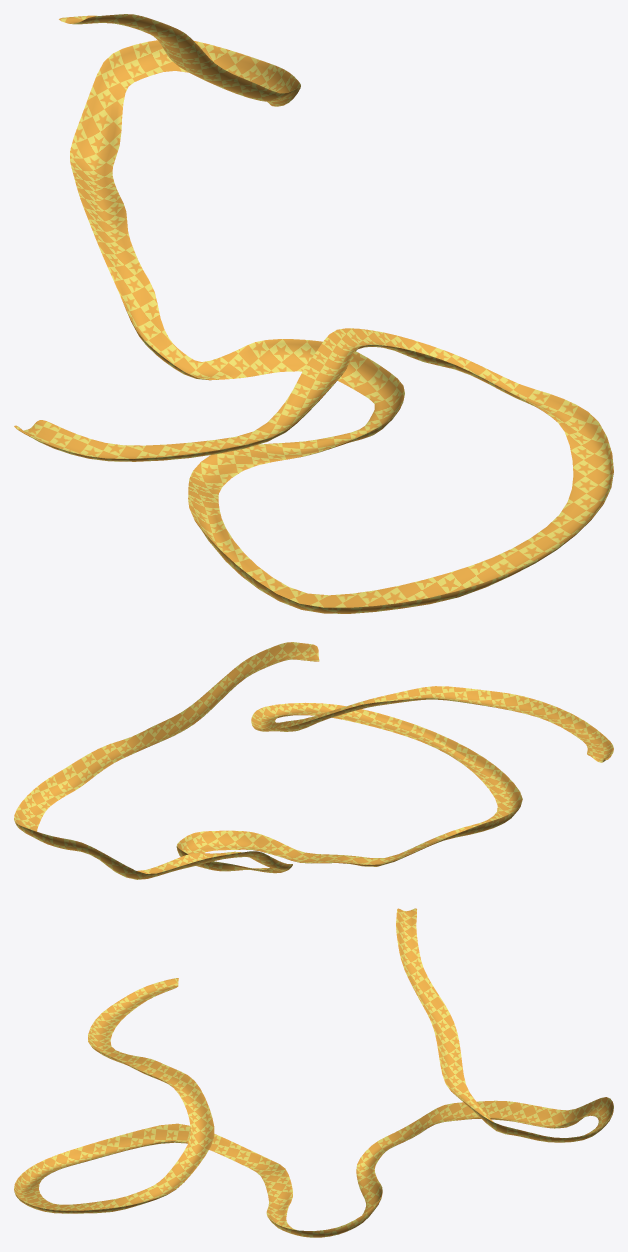
File: test_slide_0.gltf
3 renders of one model, top to bottom at view 1: azimuth 30°, elevation 25°; view 2: azimuth 150°, elevation 25°; view 3: azimuth 270°, elevation 25°, orthographic. The views are drawn at different scales.
Parts seen in each view (by area): view 1: Slide; view 2: Slide; view 3: Slide.
Boxes of the visible parts, left/top/right/bottom form: Slide: left=14, top=14, right=613, bottom=613; Slide: left=14, top=642, right=613, bottom=879; Slide: left=14, top=908, right=613, bottom=1237.
Size of the model in its own units: 162 by 115 by 237.
2 materials, 2 textured.
